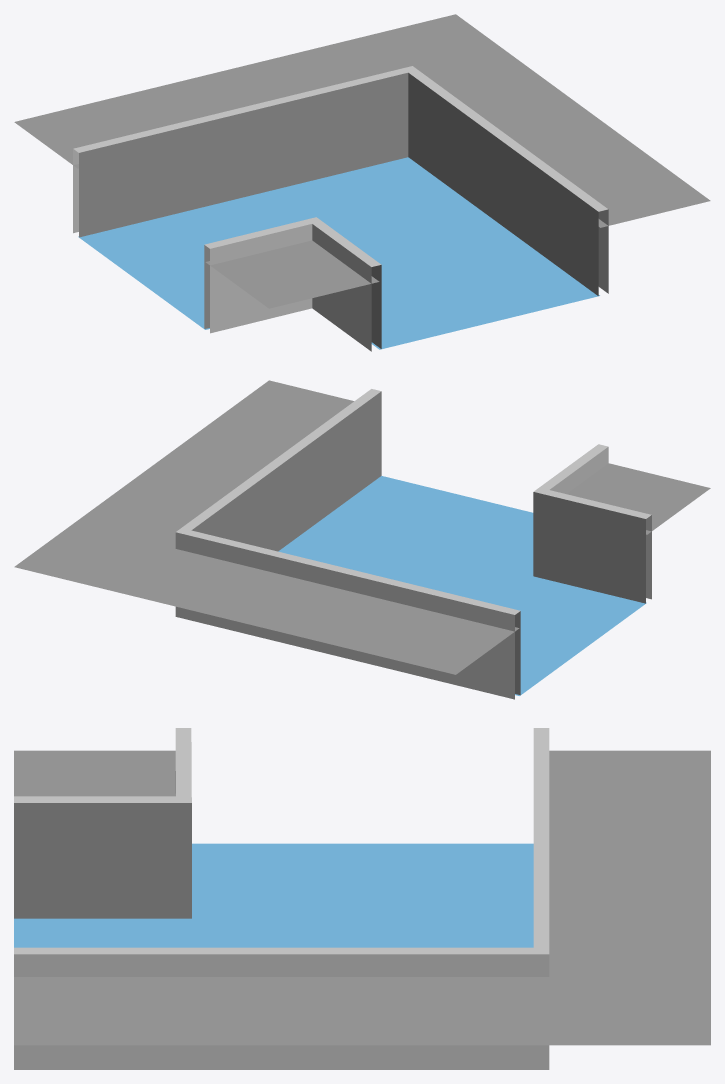
The model's file is River_Tile_2.fbx.
The picture shows the model from 3 angles, top to bottom: view 1: azimuth 30°, elevation 25°; view 2: azimuth 150°, elevation 25°; view 3: azimuth 270°, elevation 25°; orthographic projection. The views are drawn at different scales.
Visible parts, largest first — view 1: River_Tile_2; view 2: River_Tile_2; view 3: River_Tile_2.
Boxes of the visible parts, x1,y1,x2,y2 form: River_Tile_2: (14,14,710,351); River_Tile_2: (14,380,710,699); River_Tile_2: (14,728,710,1069).
Size of the model in its own units: 4 by 0.7315 by 4.
